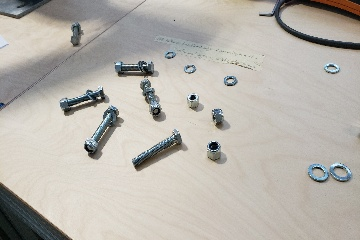Bolt: (127, 127, 186, 172)
FalseAssembly: (82, 104, 122, 153), (57, 84, 107, 113), (69, 19, 85, 50)
FinishedAssembly: (137, 79, 166, 120), (113, 60, 158, 78)
Nut: (210, 106, 226, 127), (207, 139, 223, 159), (185, 93, 202, 108)
Washer: (328, 160, 353, 185), (305, 160, 330, 181), (321, 62, 342, 74), (222, 73, 239, 87), (182, 63, 198, 74), (162, 52, 178, 61)
